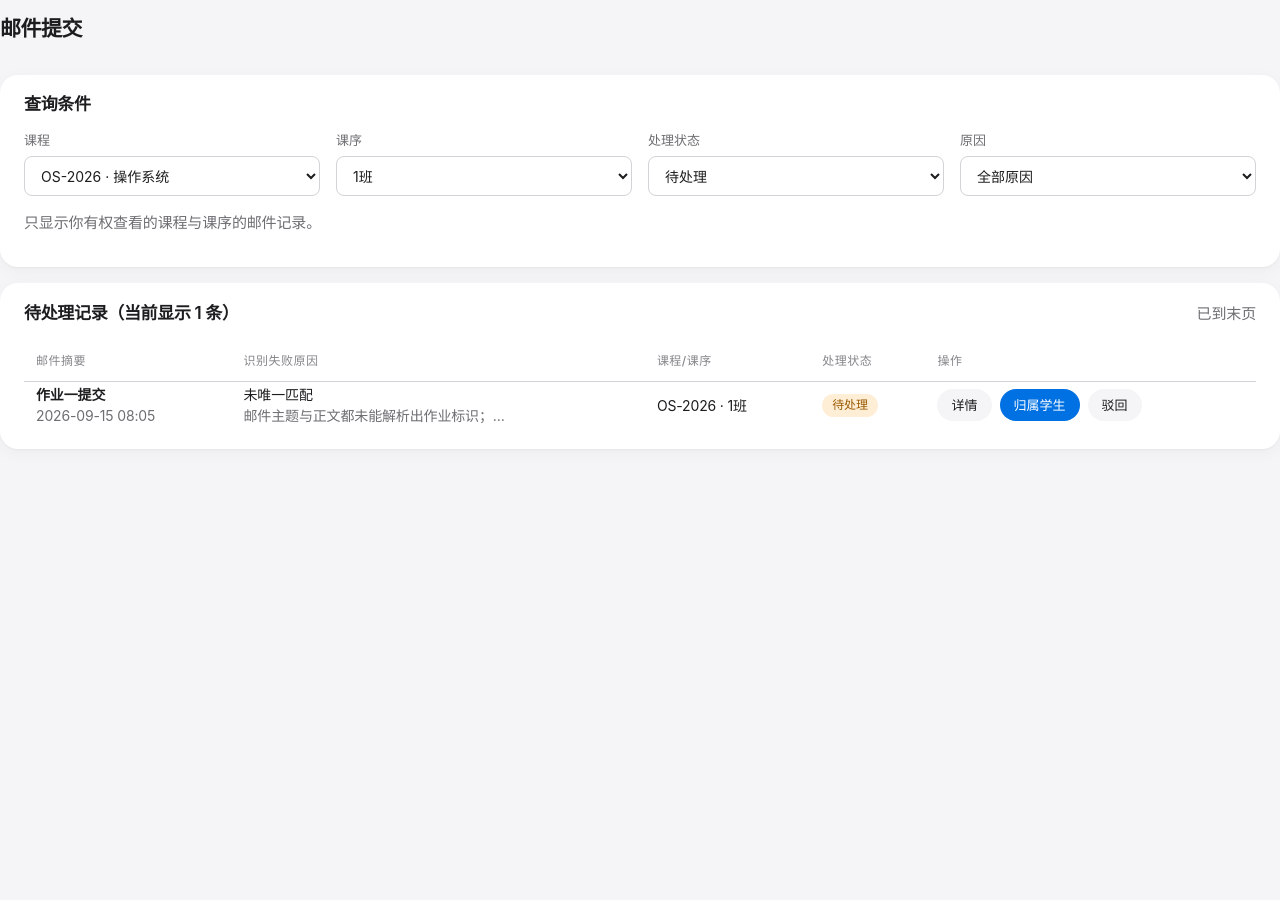
Test: P13-A 邮件提交标签 › 归属：确认前不 POST，确认后体只含 student_id/note
The width and height of the screenshot is (1280, 900).
Click the button "归属学生". click: (1040, 405)
box: [1000,389,1080,421]
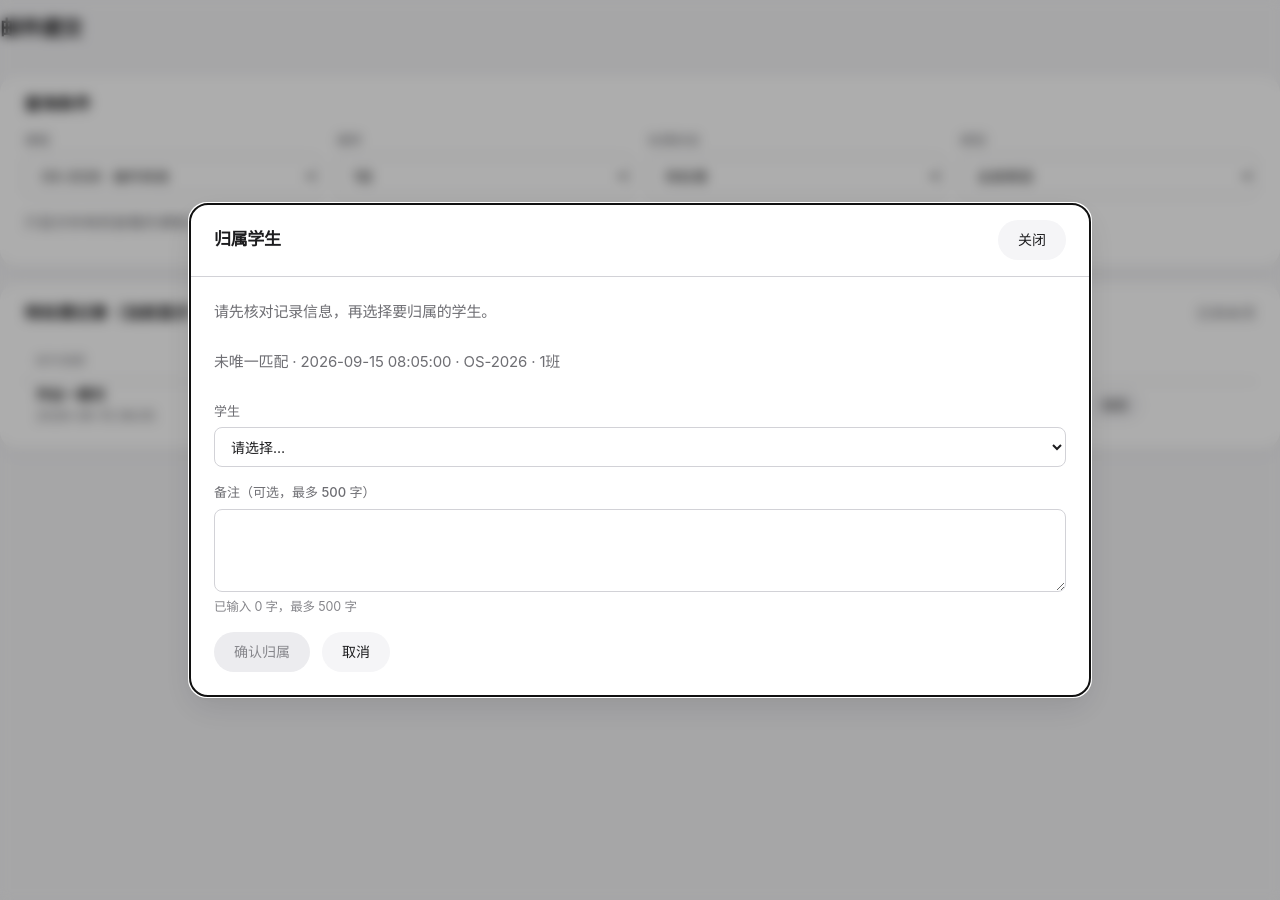
Select "张三 · 20260001" in the dropdown with test id "review-resolve-student". click: (640, 447)
box: [214,427,1066,467]
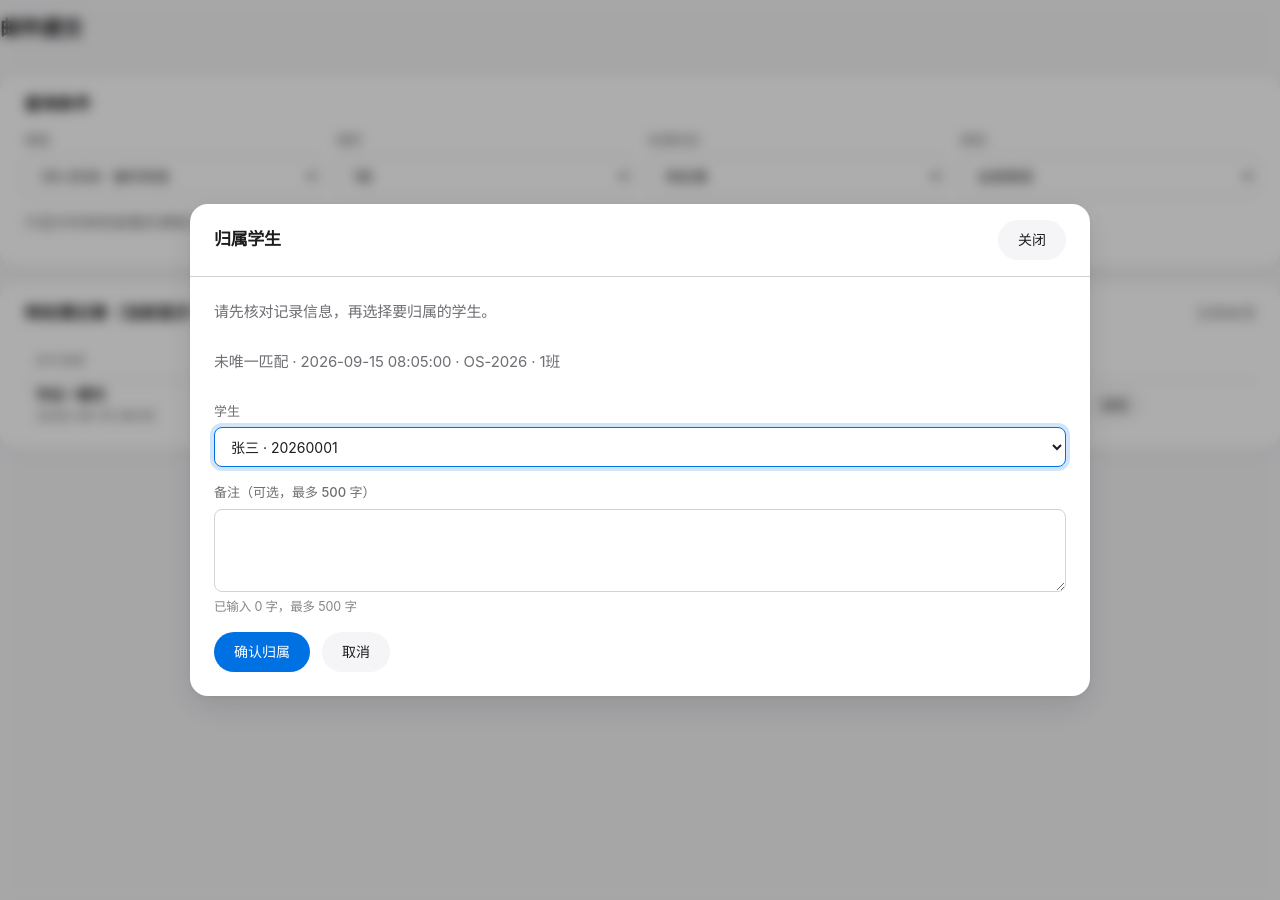
Click the button with test id "review-resolve-continue". click: (262, 652)
box: [214,632,310,672]
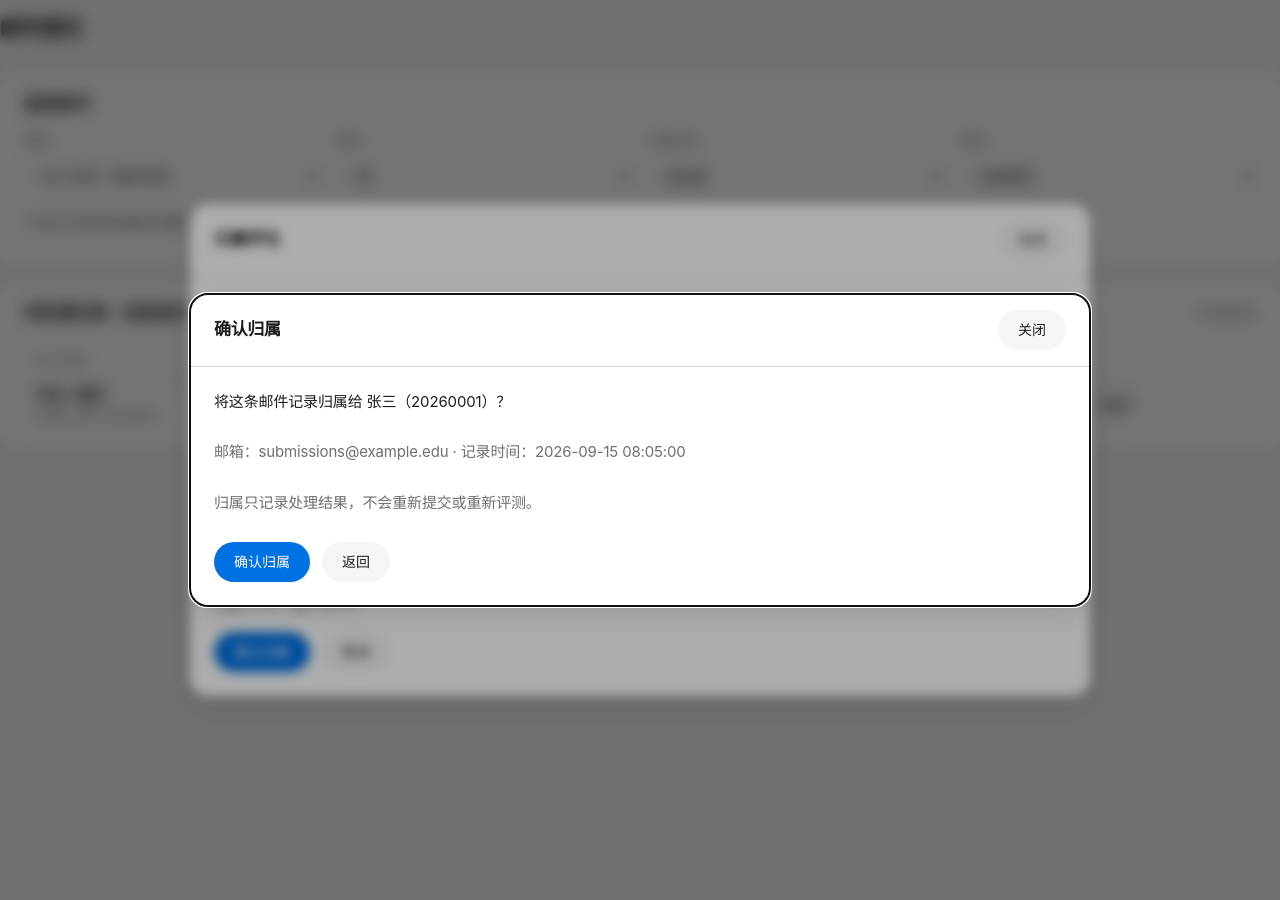
Expected: the dialog with test id "review-mail-confirm" shows "20260001", [214,392,511,411]
Expected: the dialog with test id "review-mail-confirm" shows "张三", [214,392,511,411]
Click the button with test id "review-mail-confirm-submit". click: (262, 562)
box: [214,542,310,582]
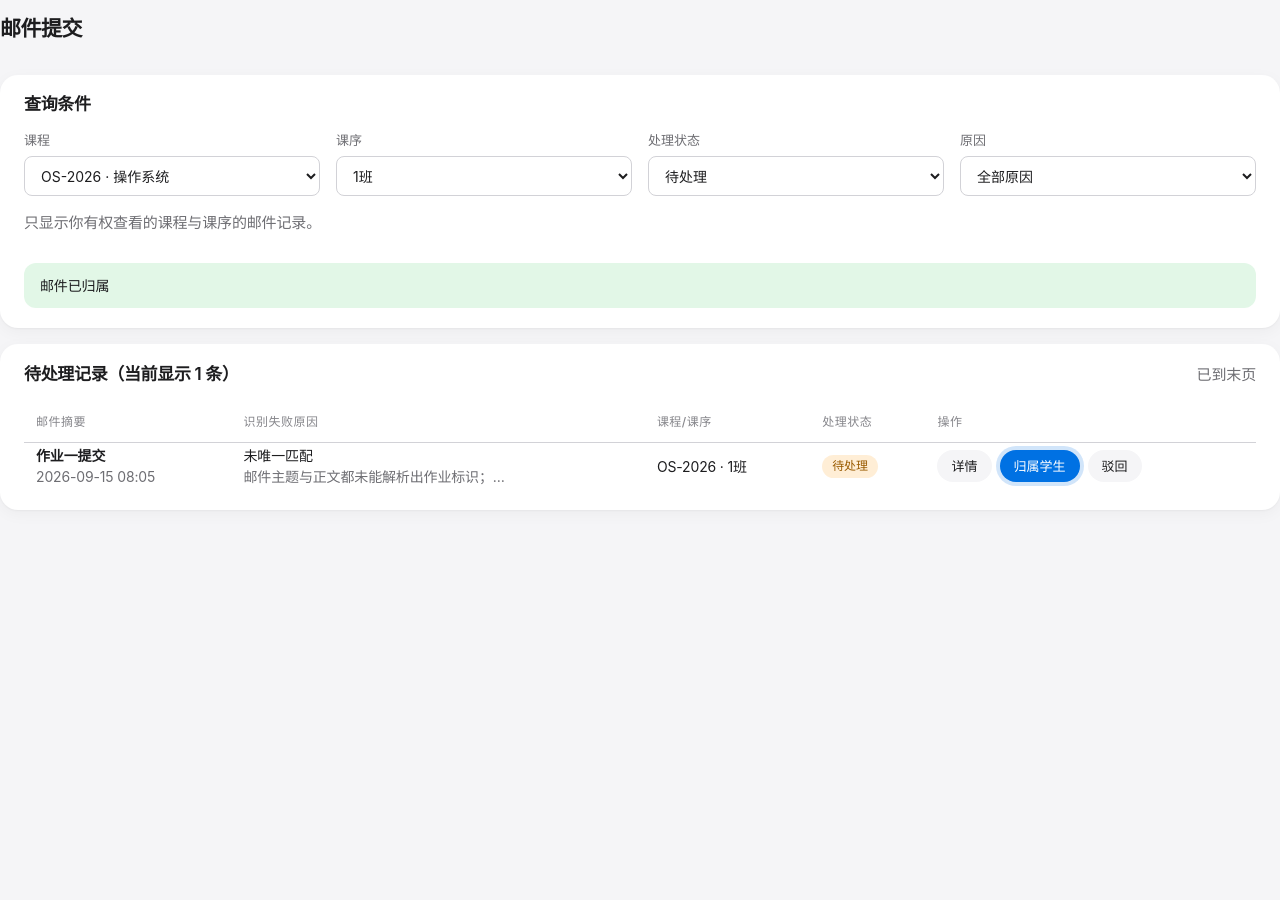
Expected: the text with test id "review-mail-resolved-ok" reads "邮件已归属", [40,276,109,294]
